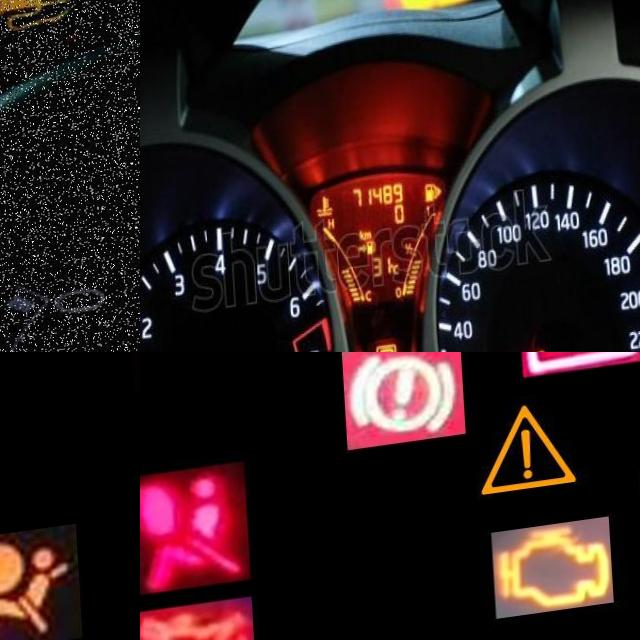Central Warning lamp: (460, 394, 584, 525)
